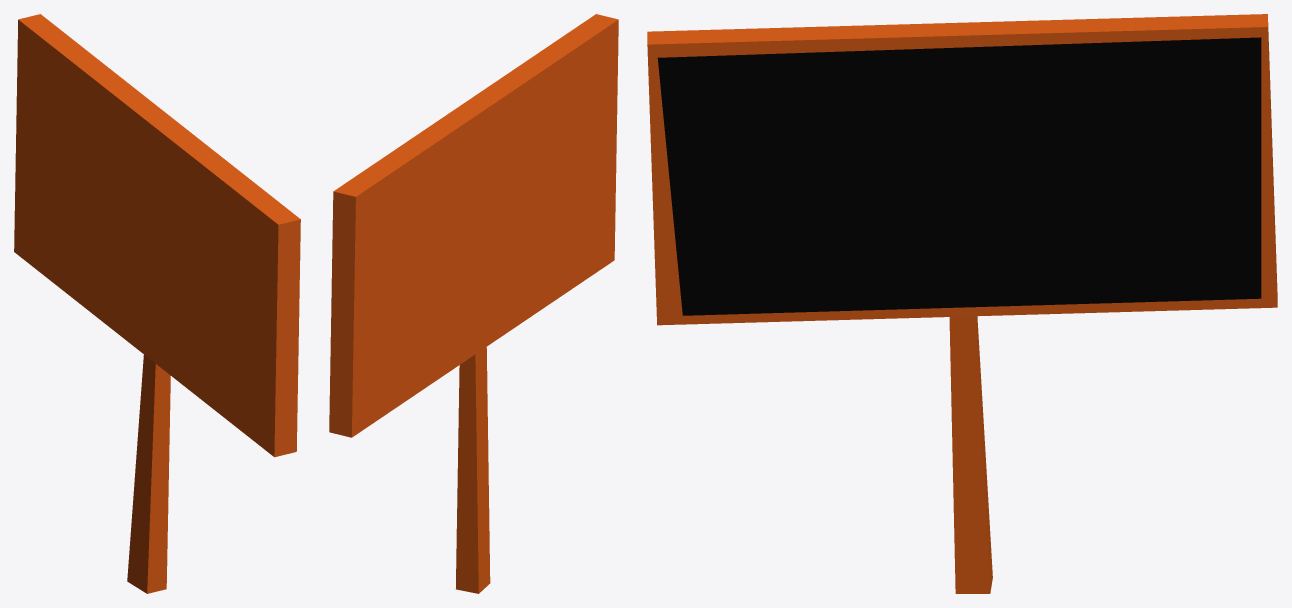
File: sign.glb
3 views of the same model, side by side, from view 1: azimuth 30°, elevation 25°; view 2: azimuth 150°, elevation 25°; view 3: azimuth 270°, elevation 25° (orthographic). The views are drawn at different scales.
Visible parts, largest first — view 1: Cube; view 2: Cube; view 3: Cube.
Boxes of the visible parts, x1,y1,x2,y2 form: Cube: (14, 14, 300, 593); Cube: (329, 14, 618, 593); Cube: (647, 14, 1277, 593).
Bounding box in the file's own units: 0.1653 × 2.43 × 2.44.
